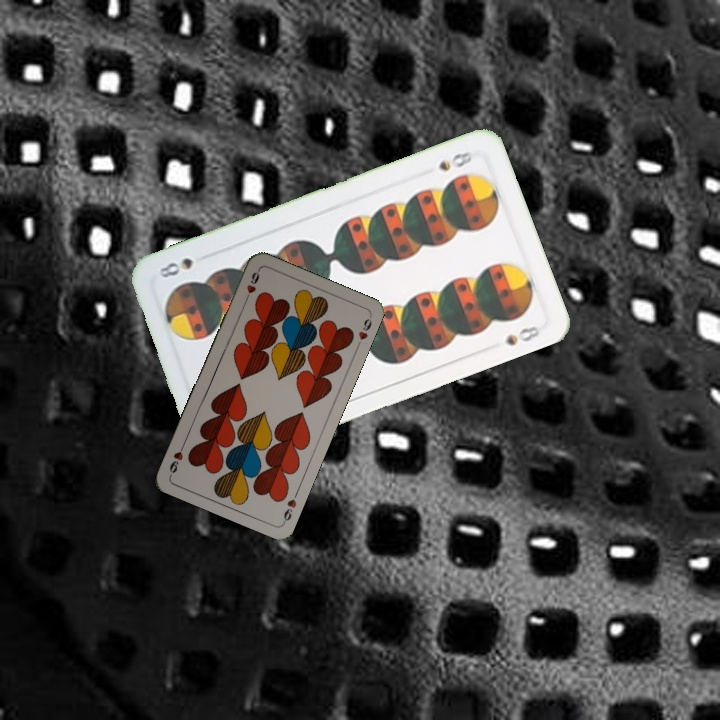H9: (240, 266, 262, 305), (279, 487, 301, 525)
S8: (434, 147, 477, 174)
